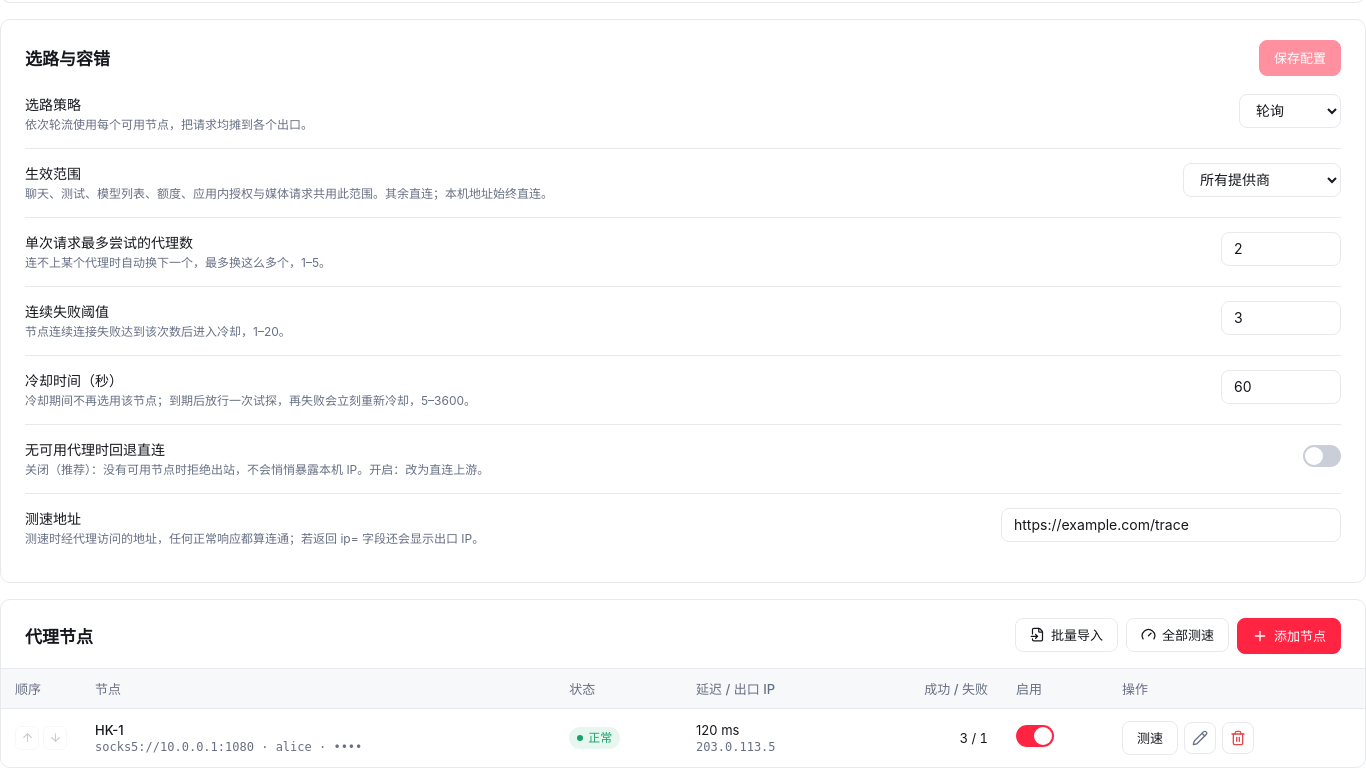
it: ProxyPoolView › 操作失败时显示错误
This screenshot has width=1366, height=768.
(page scrolled)
Click the switch with test id "toggle-n1" at (1035, 736), box 1016,725 -> 1054,747
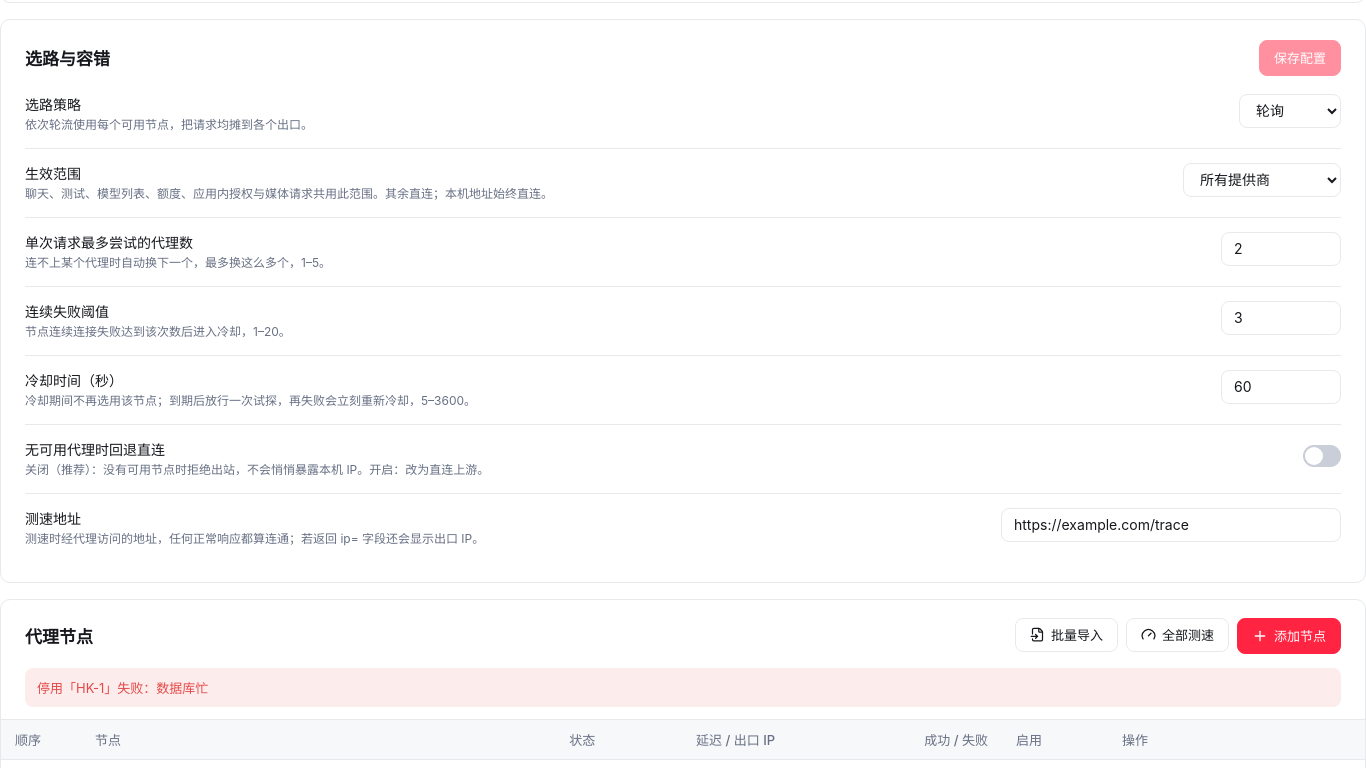
Now the message with test id "action-error" shows "数据库忙", box 37,680 -> 208,696
